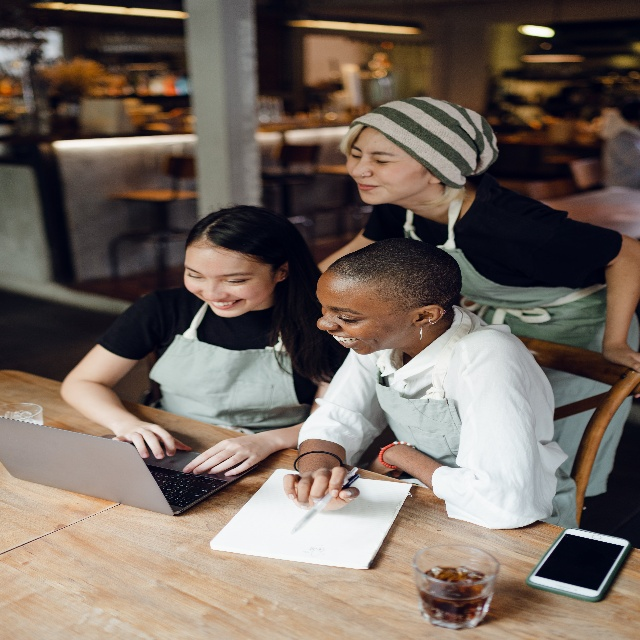Sin_guantes: (181, 425, 277, 477), (283, 461, 362, 509), (119, 410, 193, 459), (604, 336, 640, 374), (367, 446, 405, 474)
